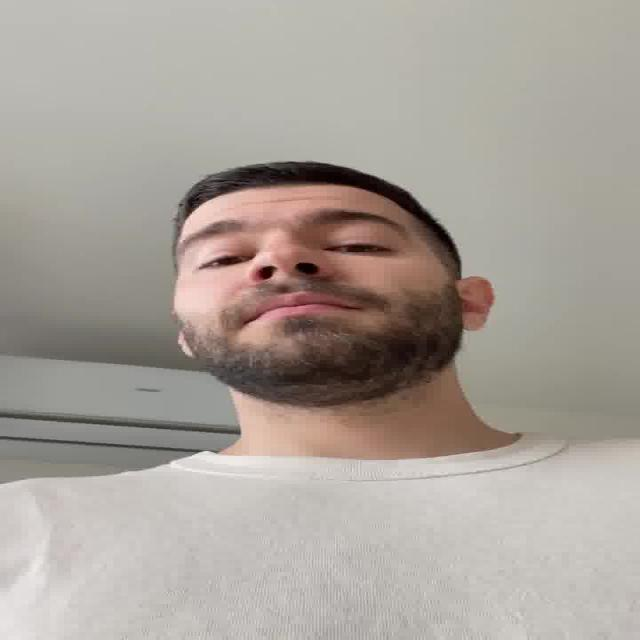earlobe: (171, 340, 198, 360), (459, 316, 485, 332)
eye: (329, 239, 393, 257), (195, 253, 253, 270)
nose: (248, 272, 337, 296)
wholeear: (457, 276, 497, 332)
